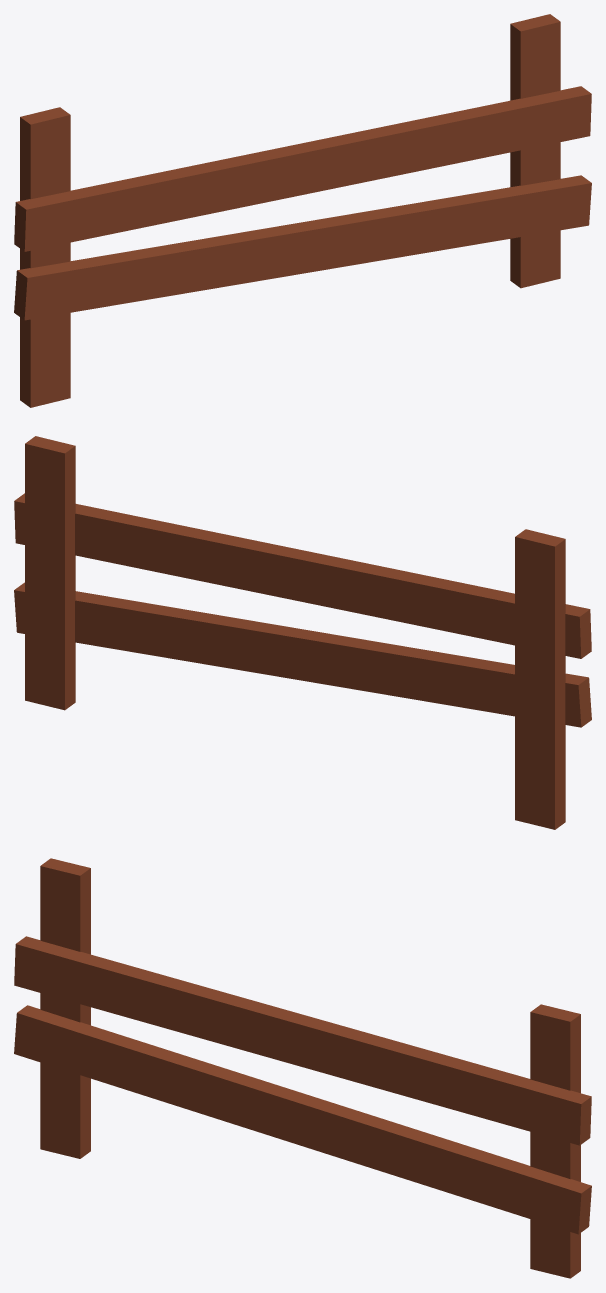
File: SM_Fence_02.fbx
3 views of the same model, one above another, from view 1: azimuth 30°, elevation 25°; view 2: azimuth 150°, elevation 25°; view 3: azimuth 330°, elevation 25° (orthographic).
Parts seen in each view (by area): view 1: SM_Fence_02; view 2: SM_Fence_02; view 3: SM_Fence_02.
Boxes of the visible parts, x1,y1,x2,y2 form: SM_Fence_02: (14, 14, 591, 407); SM_Fence_02: (14, 436, 591, 829); SM_Fence_02: (14, 858, 591, 1278).
Size of the model in its own units: 157 by 74.96 by 9.93.
